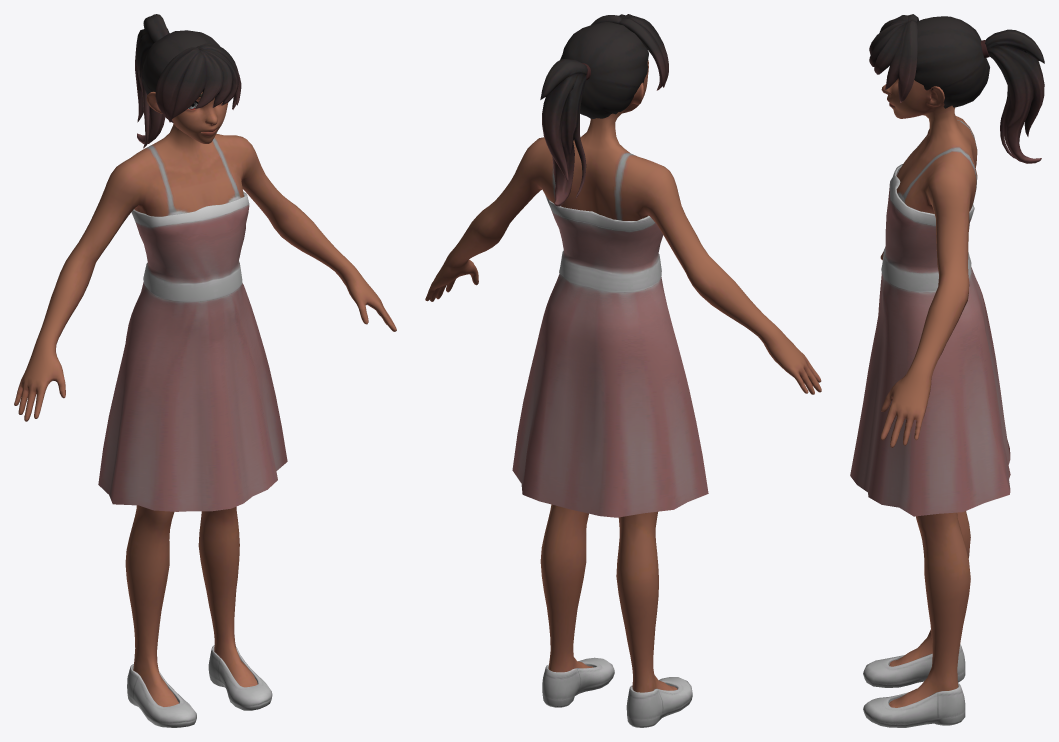
Rendered from Mexican Woman_Mesh.obj.
3 views of the same model, side by side, from view 1: azimuth 30°, elevation 25°; view 2: azimuth 150°, elevation 25°; view 3: azimuth 270°, elevation 25° (orthographic). The views are drawn at different scales.
Parts seen in each view (by area): view 1: Mexican Woman_Mesh_0; view 2: Mexican Woman_Mesh_0; view 3: Mexican Woman_Mesh_0.
Boxes of the visible parts, <box> form: Mexican Woman_Mesh_0: <box>14,14,396,727</box>; Mexican Woman_Mesh_0: <box>425,14,821,727</box>; Mexican Woman_Mesh_0: <box>850,14,1044,727</box>.
Size of the model in its own units: 1.06 by 1.79 by 0.4644.
1 material, 1 textured.
